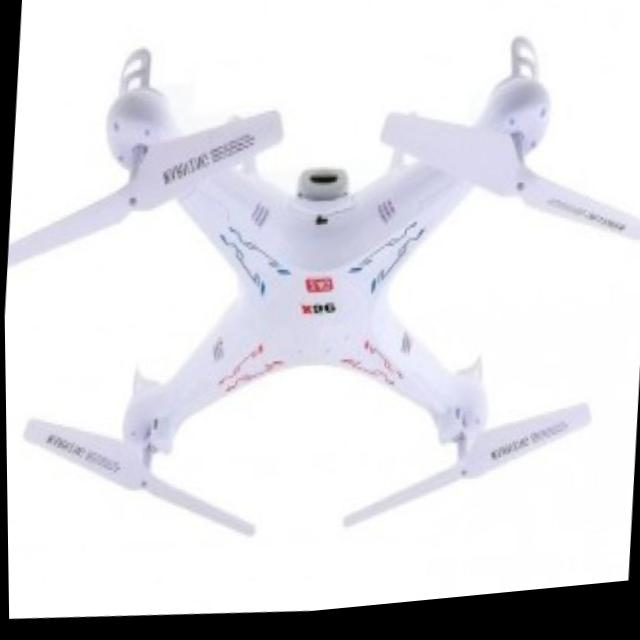drones: (0, 0, 640, 621)
